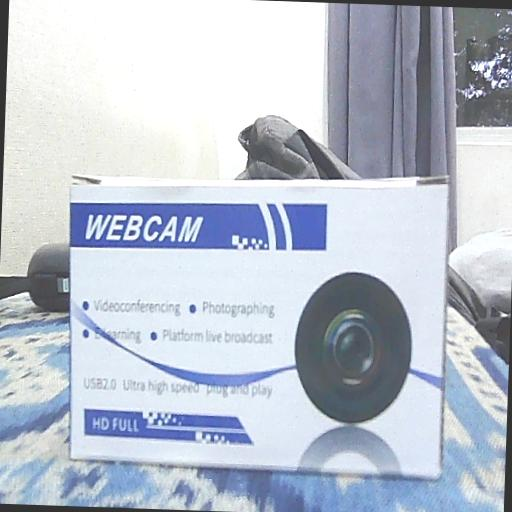webcam_box: (63, 168, 450, 478)
